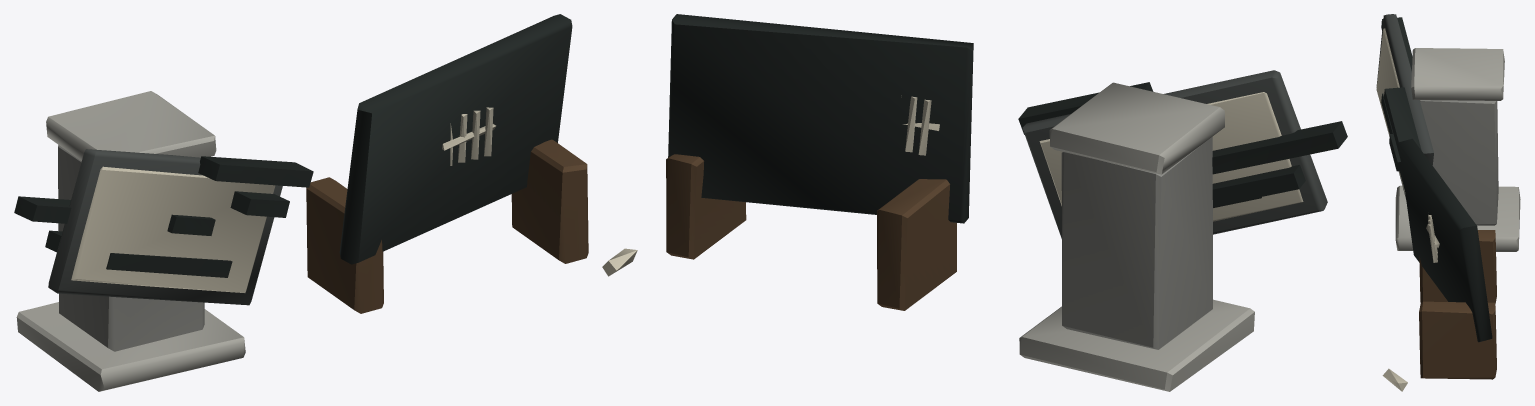
Rendered from stencil_post_b_lod1.glb.
The picture shows the model from 3 angles, left to right: view 1: azimuth 30°, elevation 25°; view 2: azimuth 150°, elevation 25°; view 3: azimuth 270°, elevation 25°; orthographic projection. The views are drawn at different scales.
Parts seen in each view (by area): view 1: Surface.001; view 2: Surface.001; view 3: Surface.001.
Part boxes in pixels (x1,y1,x2,y2): Surface.001: (14, 14, 637, 391); Surface.001: (666, 14, 1347, 391); Surface.001: (1376, 14, 1520, 391).
Bounding box in the file's own units: 5.01 × 1.94 × 1.38.
